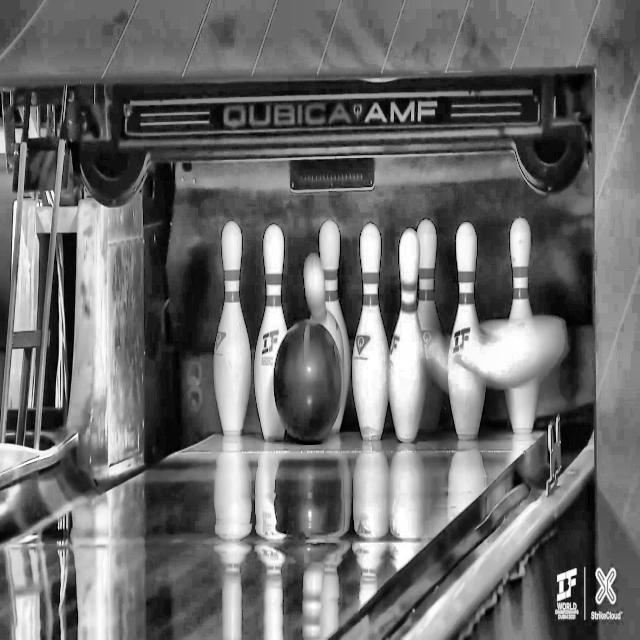bowling-ball: (274, 319, 342, 442)
bowling-pins: (448, 222, 487, 439), (352, 223, 389, 440), (214, 220, 251, 436), (254, 224, 287, 440), (319, 219, 350, 431), (418, 219, 442, 331), (510, 217, 533, 320), (507, 377, 539, 433), (420, 374, 444, 431)
